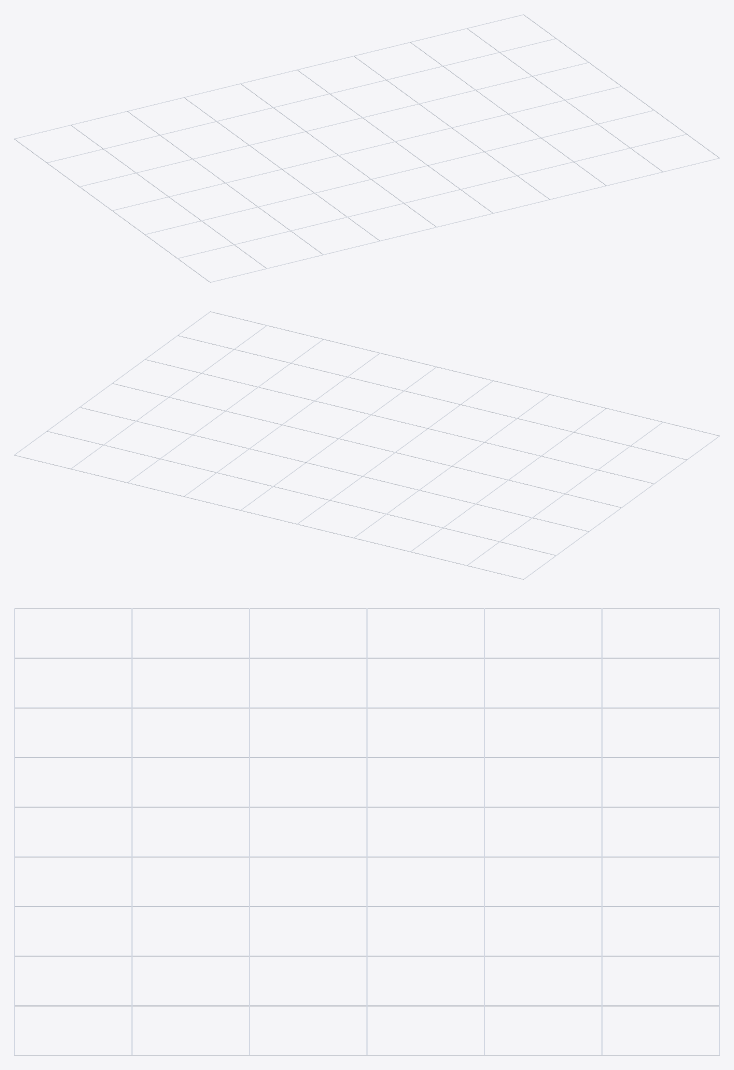
3 views of the same model, one above another, from view 1: azimuth 30°, elevation 25°; view 2: azimuth 150°, elevation 25°; view 3: azimuth 270°, elevation 25° (orthographic). The views are drawn at different scales.
Size of the model in its own units: 137 by 0.05 by 91.59.
1 material, 1 textured.
